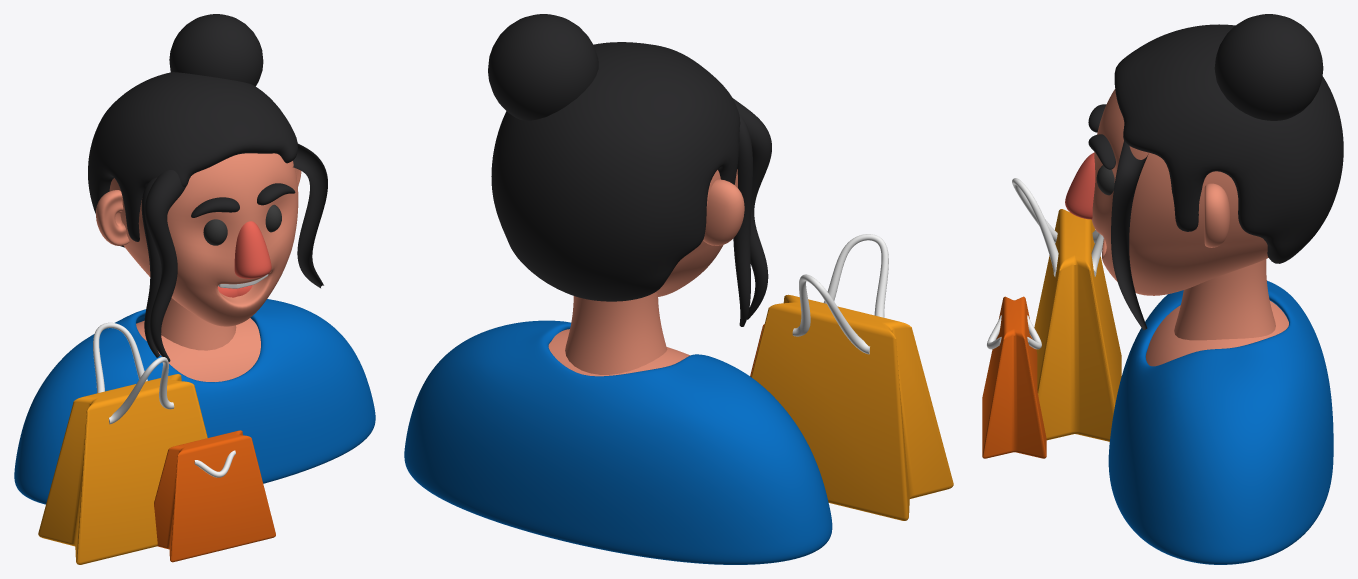
File: buyer-3d-animated-icon-646933668951.glb
The picture shows the model from 3 angles, left to right: view 1: azimuth 30°, elevation 25°; view 2: azimuth 150°, elevation 25°; view 3: azimuth 270°, elevation 25°; orthographic projection. The views are drawn at different scales.
Parts seen in each view (by area): view 1: Cube.008, Cube.012, Cube.003, Cube, Cube.004, Cube.007, NurbsPath.003, Cube.001, Cube.002, Sphere; view 2: Cube.012, Cube.008, Cube.003, Cube.007, Cube, NurbsPath.003; view 3: Cube.012, Cube.008, Cube.003, Cube, Cube.007, Cube.004, NurbsPath.003, Cube.001, Cube.002, NurbsPath.004.
Boxes of the visible parts, x1,y1,x2,y2 form: Cube.008: [88, 14, 327, 361]; Cube.012: [14, 299, 375, 504]; Cube.003: [38, 374, 207, 564]; Cube: [96, 153, 301, 326]; Cube.004: [154, 430, 275, 562]; Cube.007: [136, 298, 260, 381]; NurbsPath.003: [93, 322, 174, 424]; Cube.001: [234, 221, 271, 278]; Cube.002: [191, 183, 295, 217]; Sphere: [203, 204, 281, 245]; Cube.012: [404, 320, 832, 564]; Cube.008: [488, 14, 771, 326]; Cube.003: [751, 294, 953, 520]; Cube.007: [548, 292, 690, 376]; Cube: [655, 169, 744, 296]; NurbsPath.003: [792, 234, 888, 354]; Cube.012: [1108, 280, 1333, 564]; Cube.008: [1111, 14, 1343, 330]; Cube.003: [1034, 209, 1121, 441]; Cube: [1092, 89, 1268, 295]; Cube.007: [1146, 259, 1288, 366]; Cube.004: [982, 296, 1046, 458]; NurbsPath.003: [1012, 178, 1103, 276]; Cube.001: [1065, 153, 1095, 219]; Cube.002: [1088, 104, 1115, 169]; NurbsPath.004: [987, 315, 1041, 349].
Bounding box in the file's own units: 2.66 × 2.82 × 1.93.
